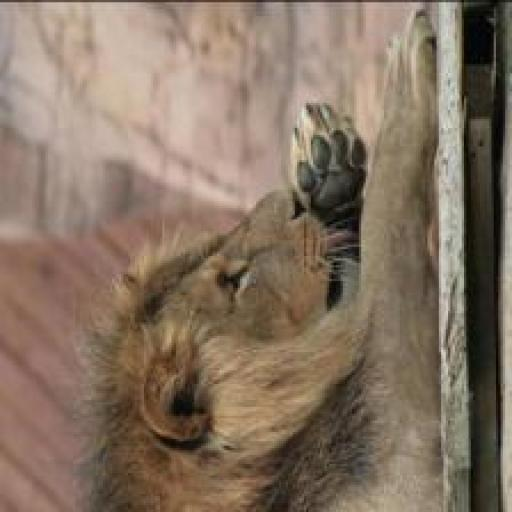lion: (80, 11, 454, 512)
